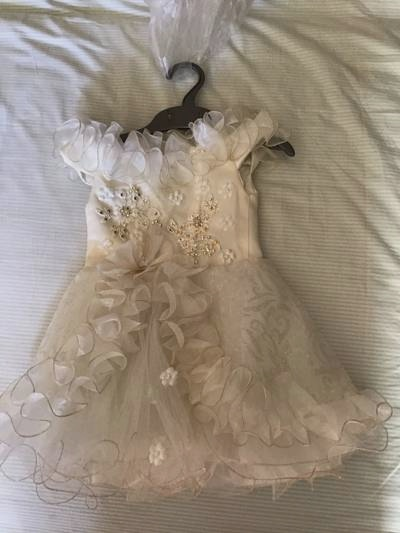Dress: (10, 67, 391, 519)
